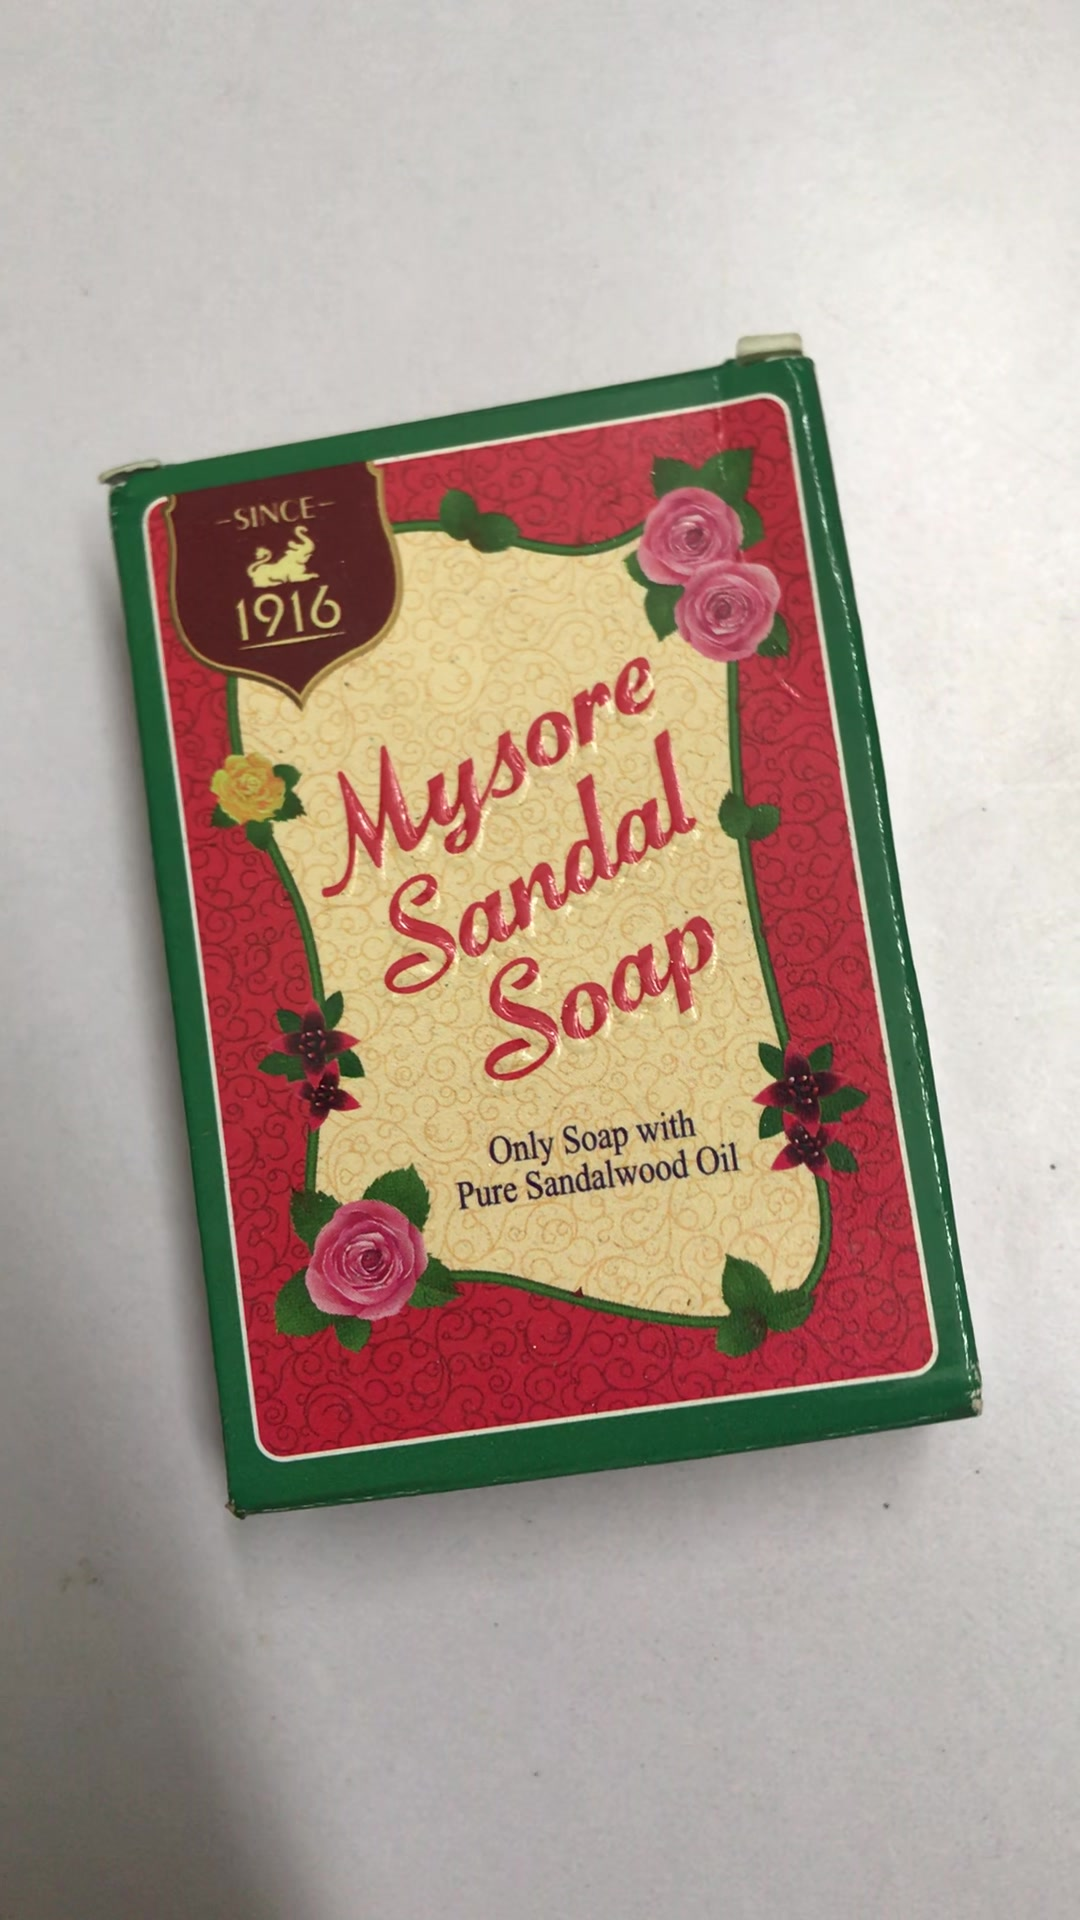mysore sandal soap: (107, 349, 982, 1523)
